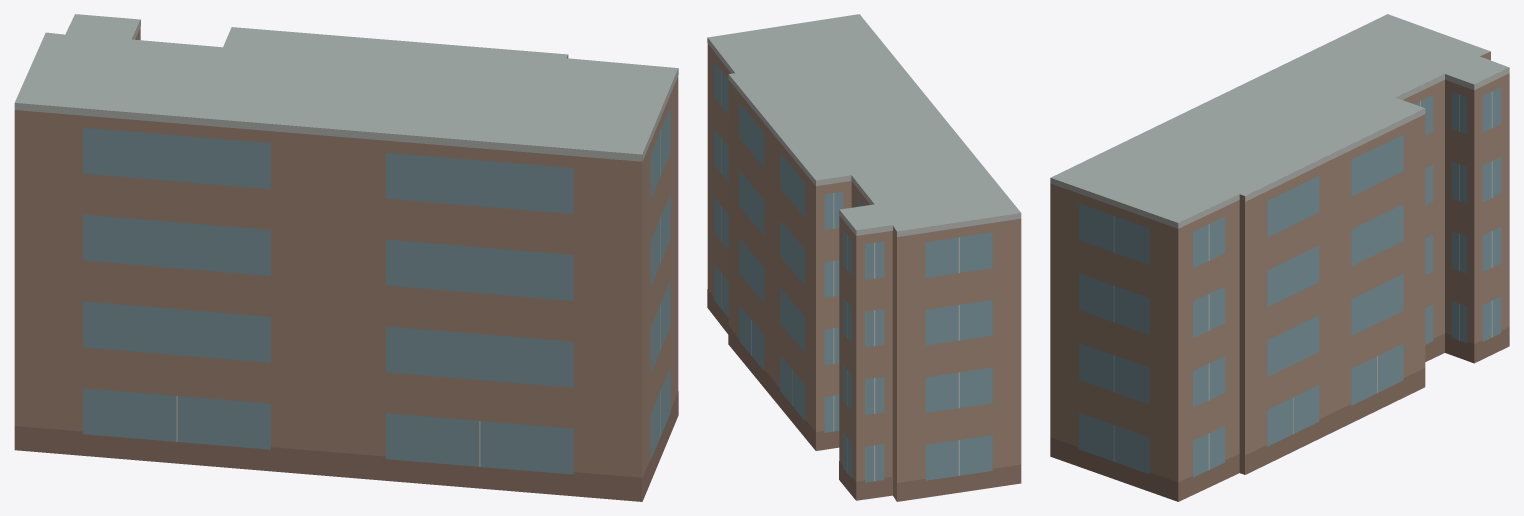
File: survey-upis-33041569.glb
The picture shows the model from 3 angles, left to right: view 1: azimuth 30°, elevation 25°; view 2: azimuth 150°, elevation 25°; view 3: azimuth 270°, elevation 25°; orthographic projection. The views are drawn at different scales.
Visible parts, largest first — view 1: survey-upis-33041569.tmp; view 2: survey-upis-33041569.tmp; view 3: survey-upis-33041569.tmp.
Boxes of the visible parts, bbox=[...] form: survey-upis-33041569.tmp: bbox=[14, 14, 678, 501]; survey-upis-33041569.tmp: bbox=[707, 14, 1021, 501]; survey-upis-33041569.tmp: bbox=[1050, 14, 1509, 501].
Bounding box in the file's own units: 18.98 × 11.8 × 17.61.
